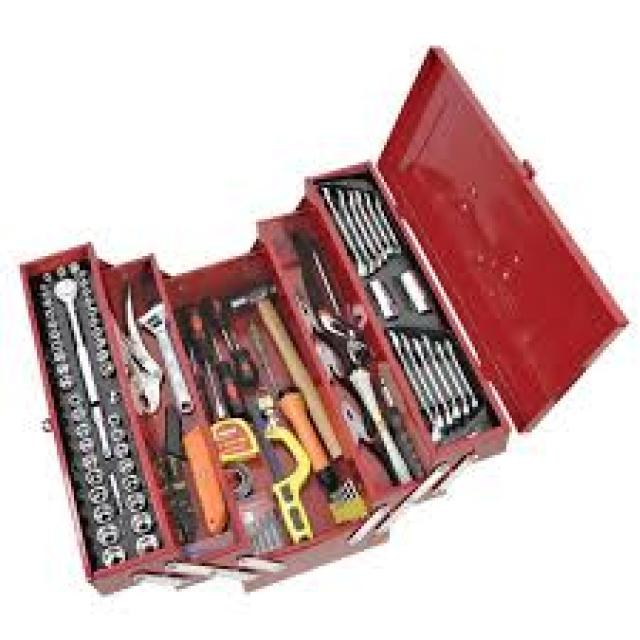tool_box: (20, 48, 634, 594)
